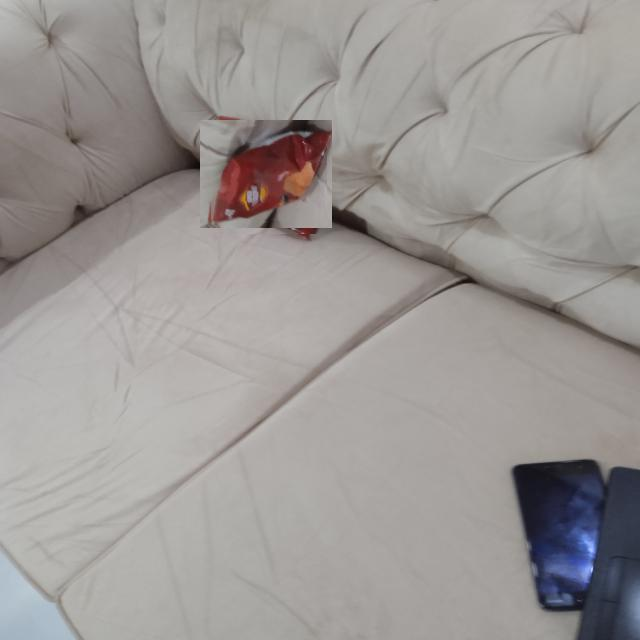Plastic: (206, 114, 327, 234)
